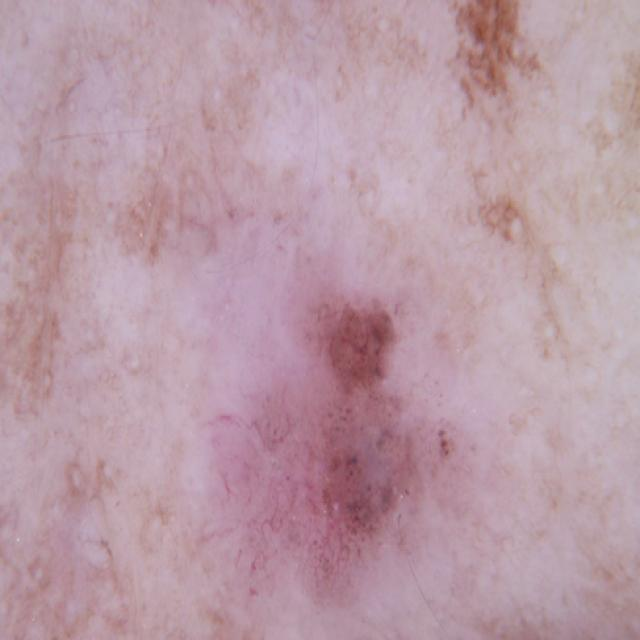Carcinoma: (175, 277, 511, 591)
